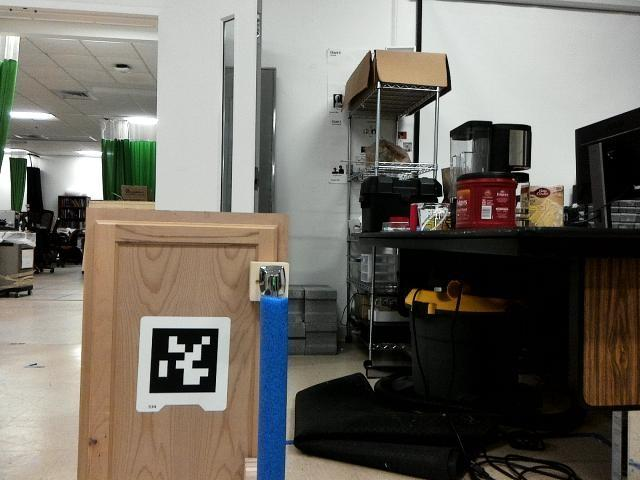noodle_handle: (254, 276, 295, 480)
